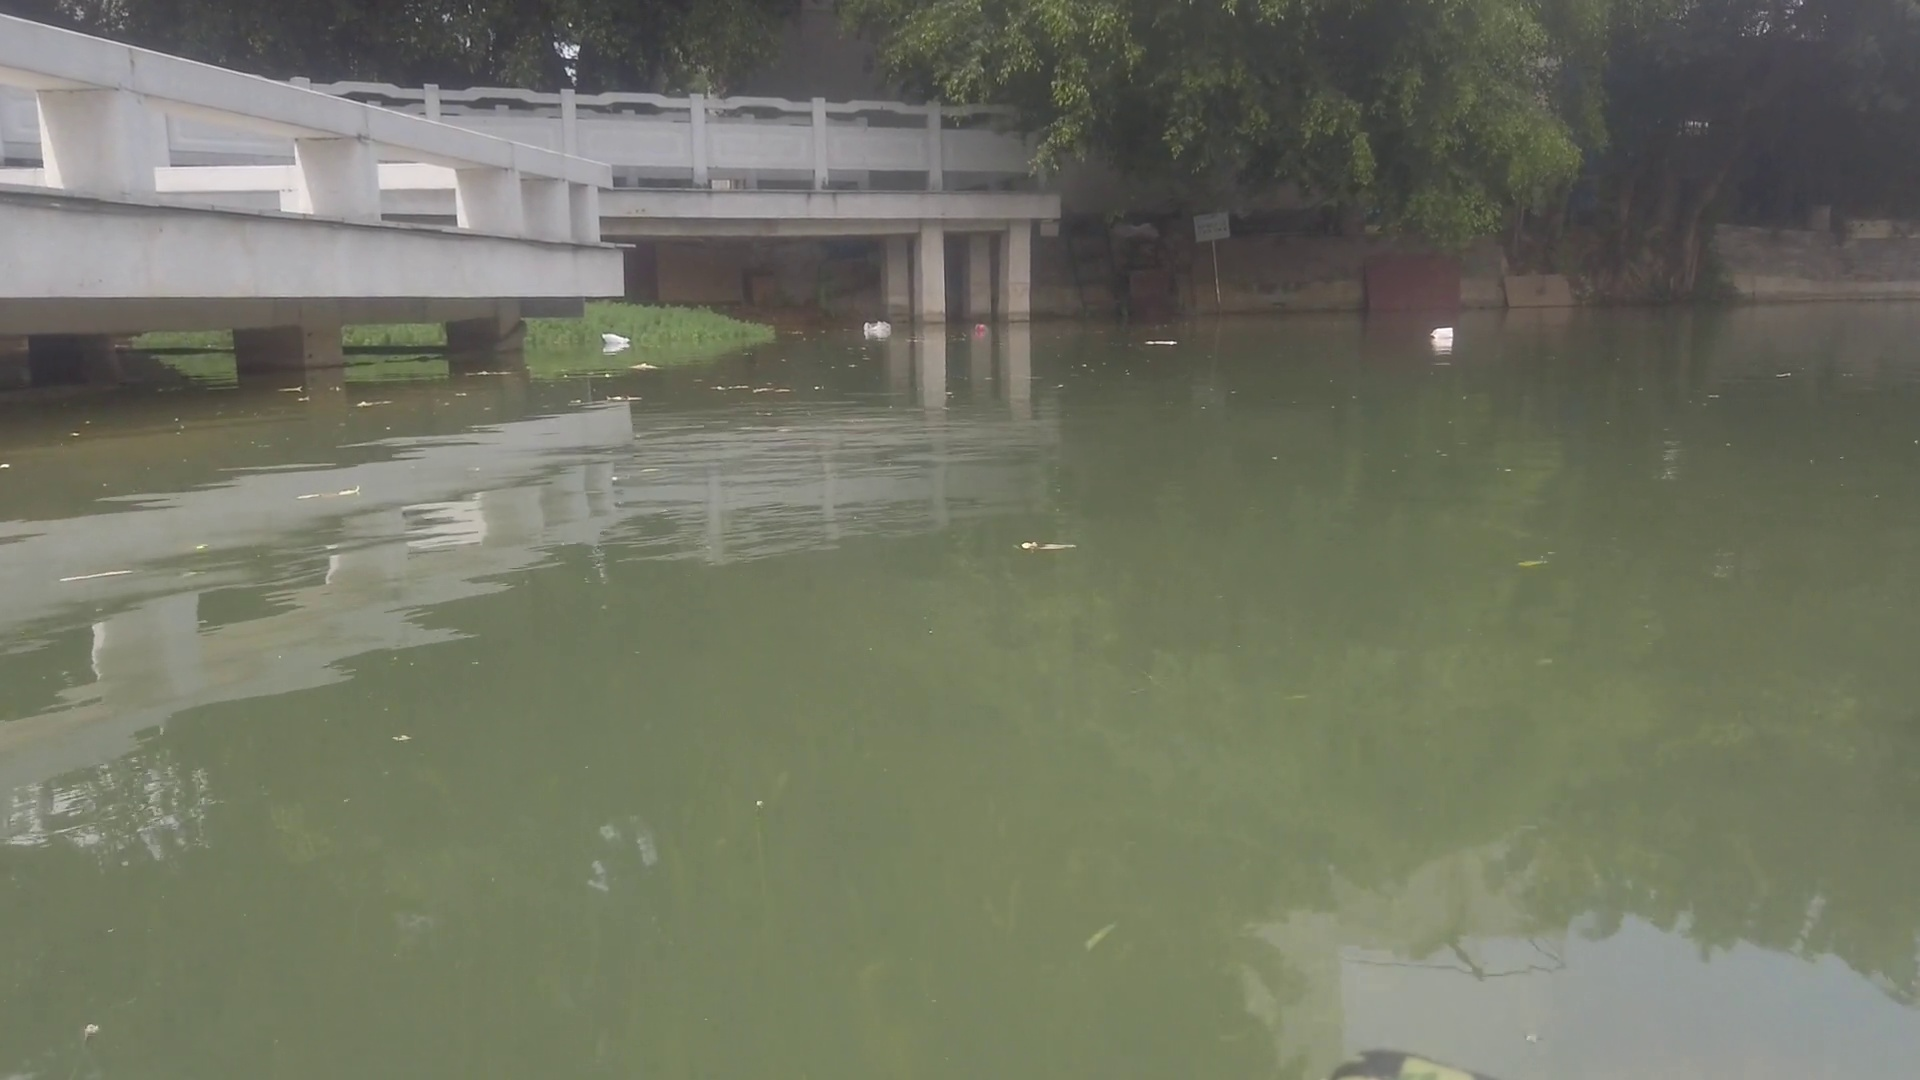bottle: (969, 320, 996, 338)
carton: (1428, 320, 1458, 340)
paper: (1139, 334, 1182, 349), (626, 357, 659, 373)
plastic: (596, 330, 640, 351), (862, 316, 891, 338)
